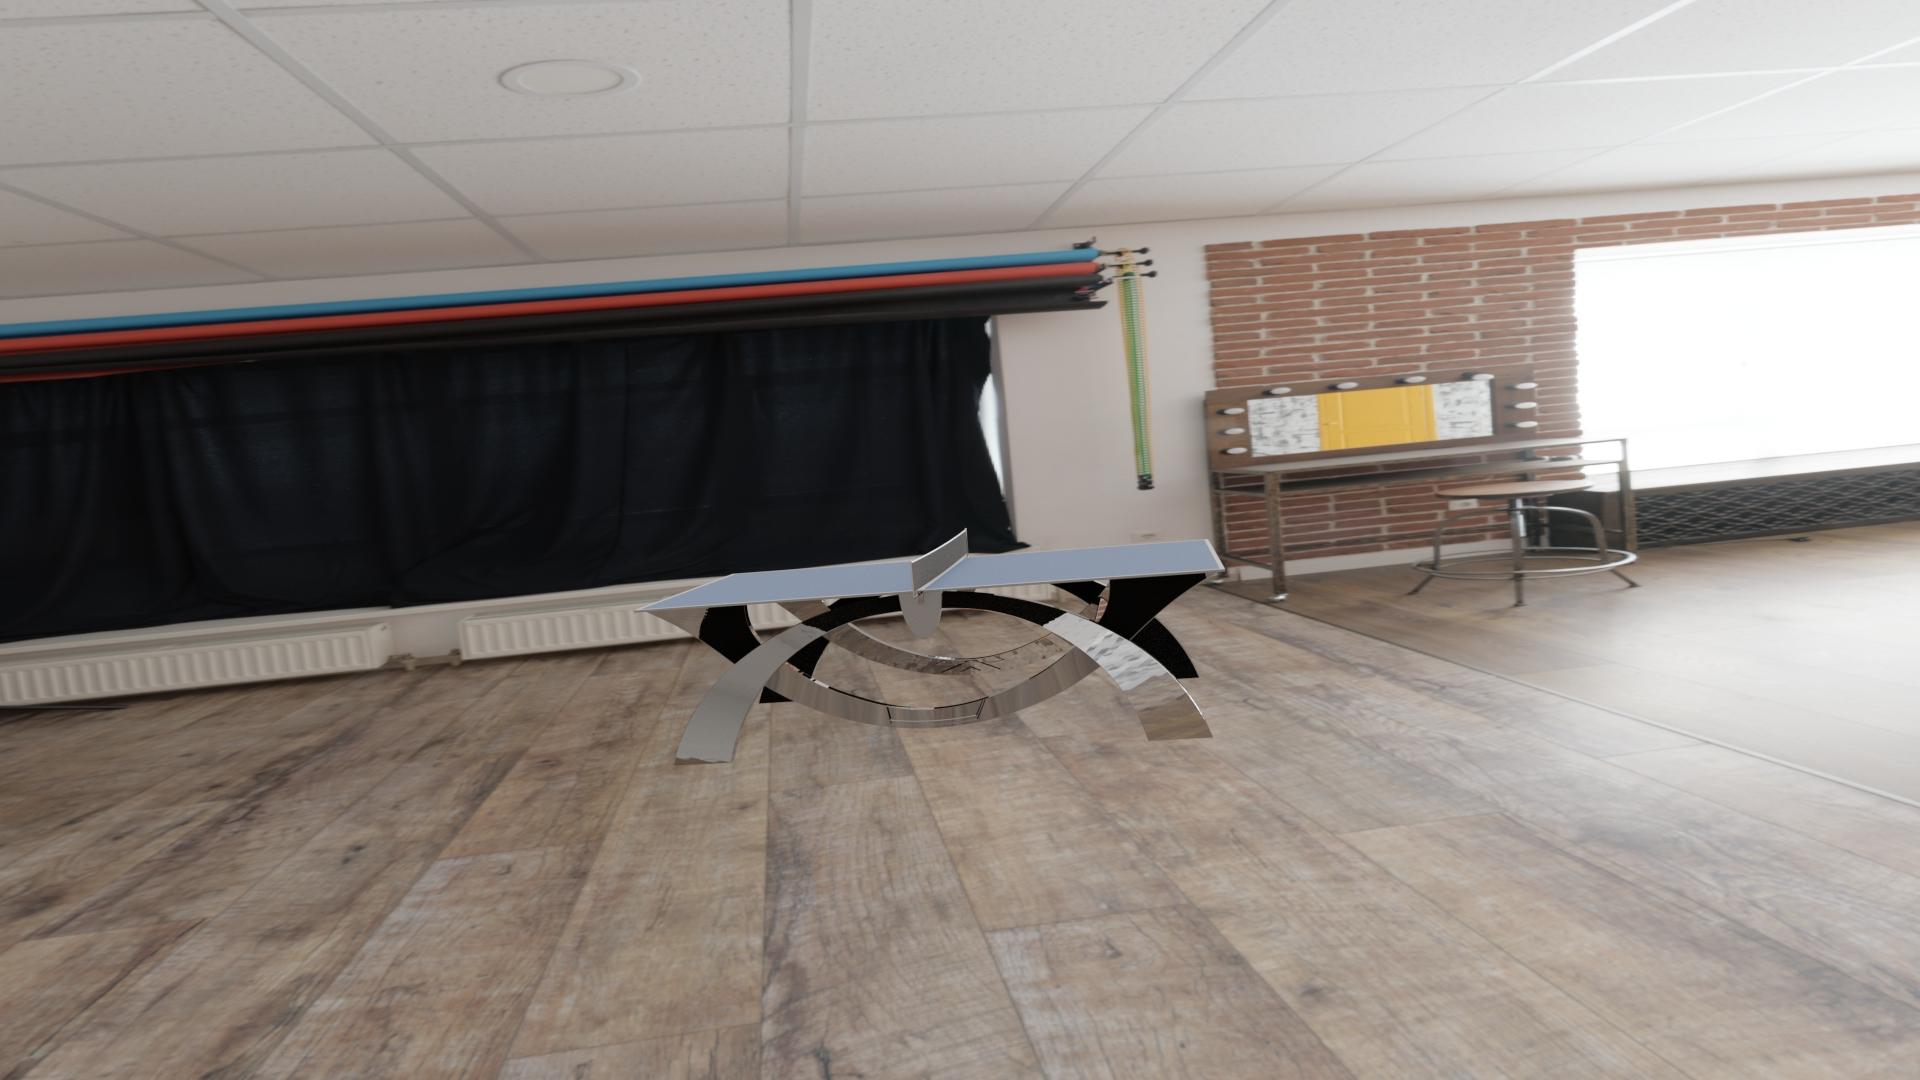table: (640, 539, 1220, 609)
